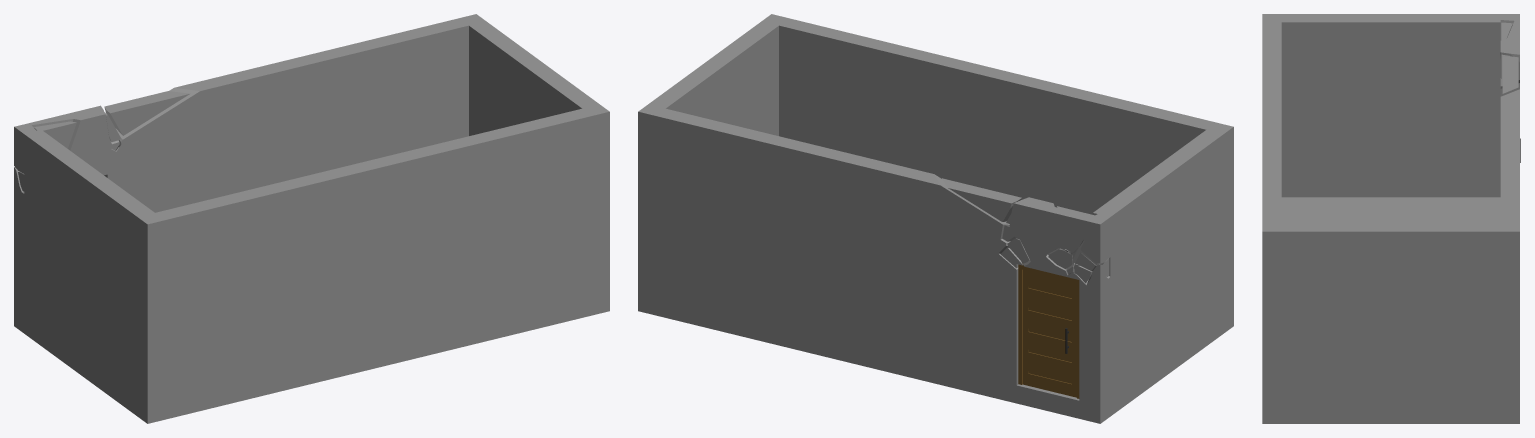
File: MSH_Room_Double_Damaged_02.fbx
3 views of the same model, side by side, from view 1: azimuth 30°, elevation 25°; view 2: azimuth 150°, elevation 25°; view 3: azimuth 270°, elevation 25° (orthographic). The views are drawn at different scales.
Visible parts, largest first — view 1: MSH_Room_Double_Damaged_02; view 2: MSH_Room_Double_Damaged_02, MSH_Door_Single003, MSH_DoorFrame_Single003; view 3: MSH_Room_Double_Damaged_02.
Part boxes in pixels (bbox=[...]): MSH_Room_Double_Damaged_02: bbox=[14, 14, 609, 423]; MSH_Room_Double_Damaged_02: bbox=[638, 14, 1233, 423]; MSH_Door_Single003: bbox=[1023, 270, 1076, 397]; MSH_DoorFrame_Single003: bbox=[1018, 264, 1079, 398]; MSH_Room_Double_Damaged_02: bbox=[1262, 14, 1519, 423].
Size of the model in its own units: 315 by 130 by 158.
